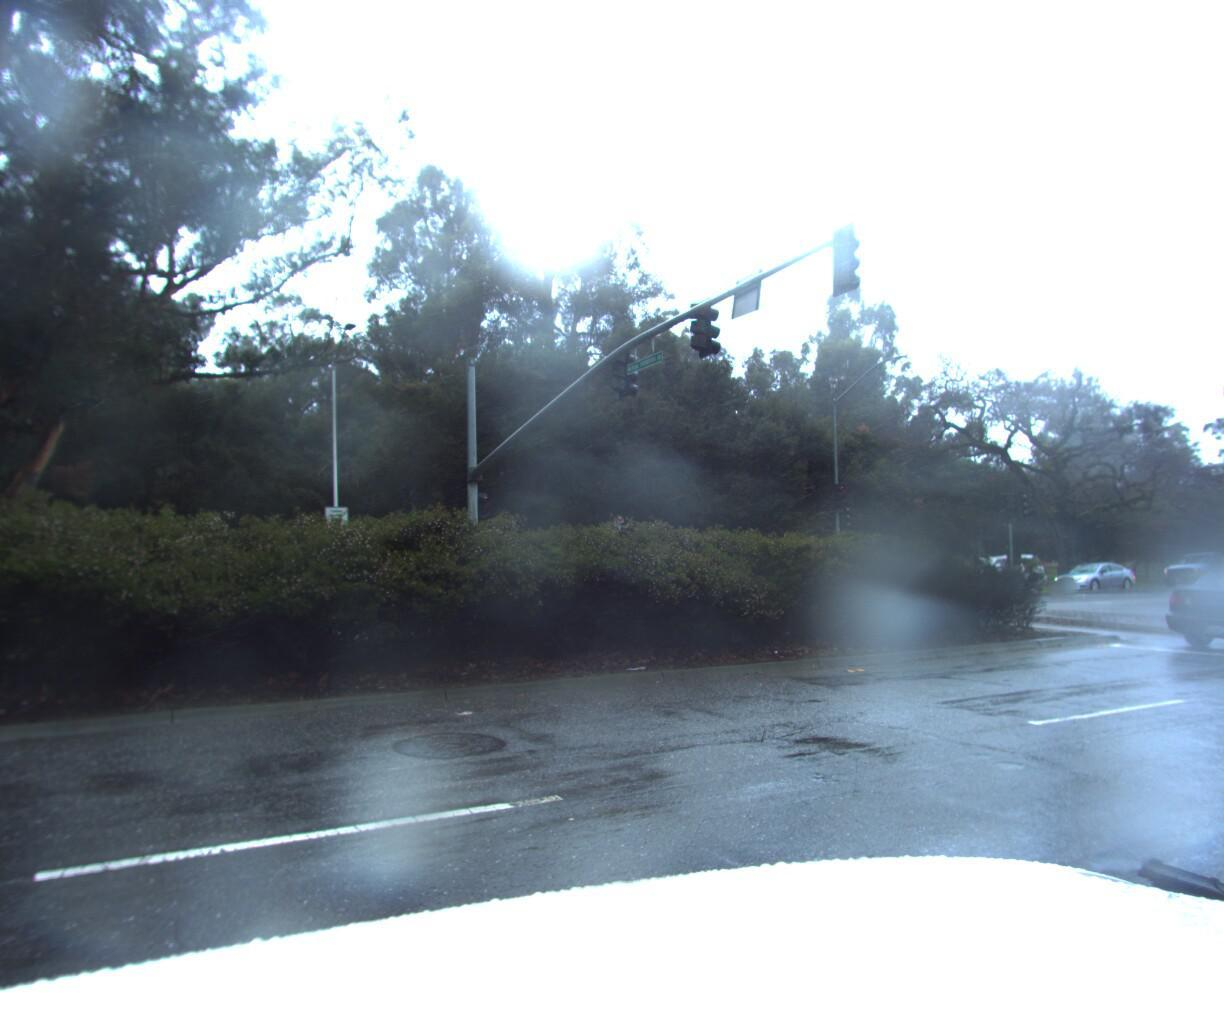car: (1138, 557, 1224, 666), (1201, 478, 1224, 751), (932, 552, 1048, 595), (1151, 546, 1224, 585), (1045, 561, 1136, 591)
